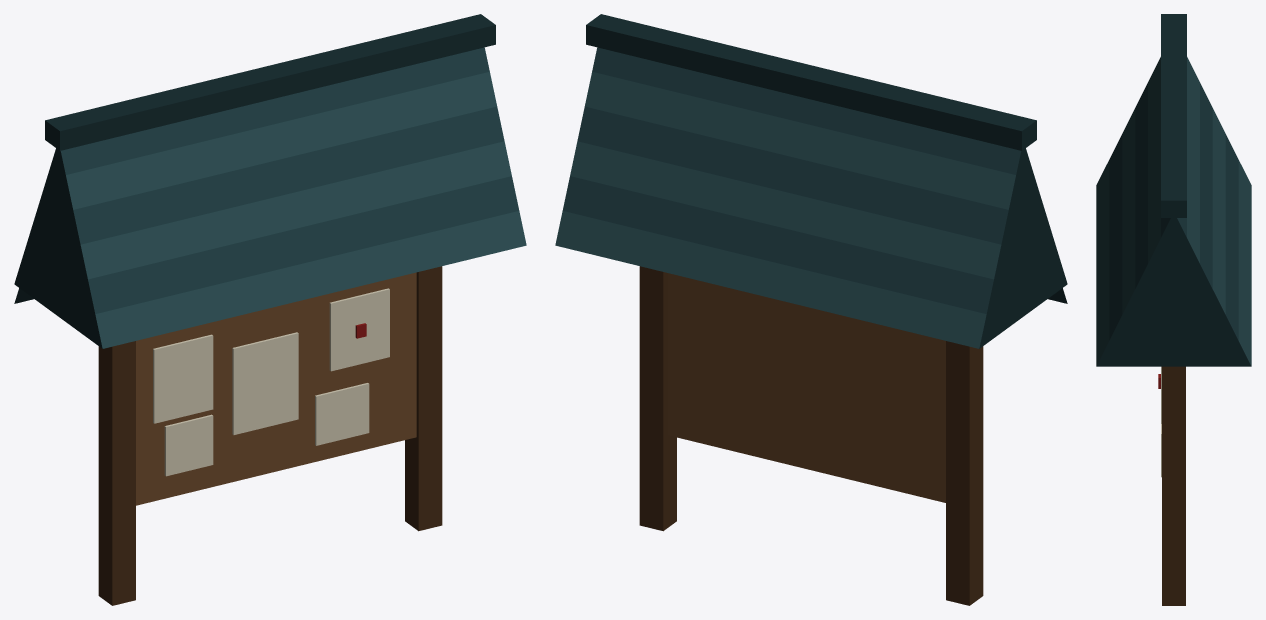
File: notice-board.glb
3 renders of one model, left to right at view 1: azimuth 30°, elevation 25°; view 2: azimuth 150°, elevation 25°; view 3: azimuth 270°, elevation 25°, orthographic. The views are drawn at different scales.
Visible parts, largest first — view 1: notice-board; view 2: notice-board; view 3: notice-board.
Boxes of the visible parts, <box> form: notice-board: <box>14,14,526,605</box>; notice-board: <box>555,14,1067,605</box>; notice-board: <box>1096,14,1251,605</box>.
Bounding box in the file's own units: 3.7 × 3.96 × 1.3.
